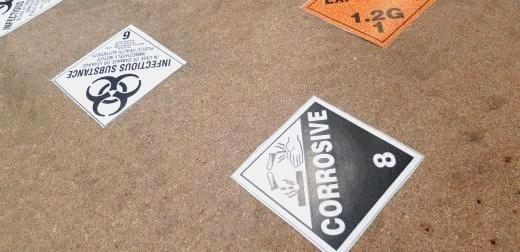corrosive: (232, 96, 425, 250)
explosive: (298, 1, 438, 46)
infectious-substance: (50, 23, 187, 129)
